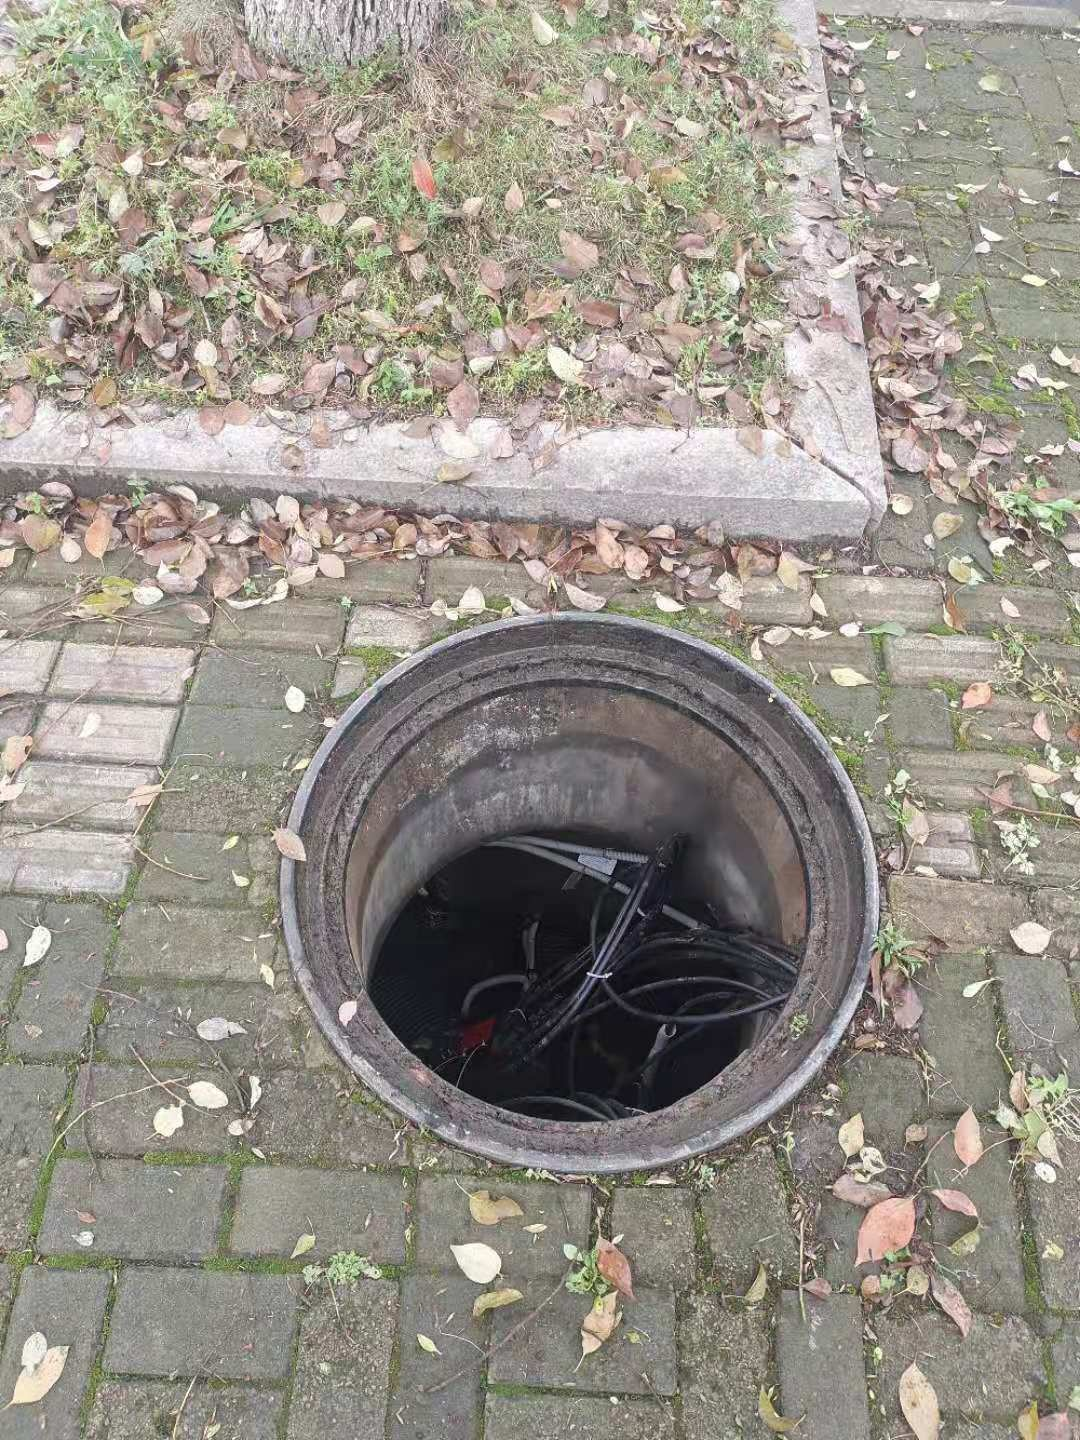lose: (279, 610, 874, 1175)
